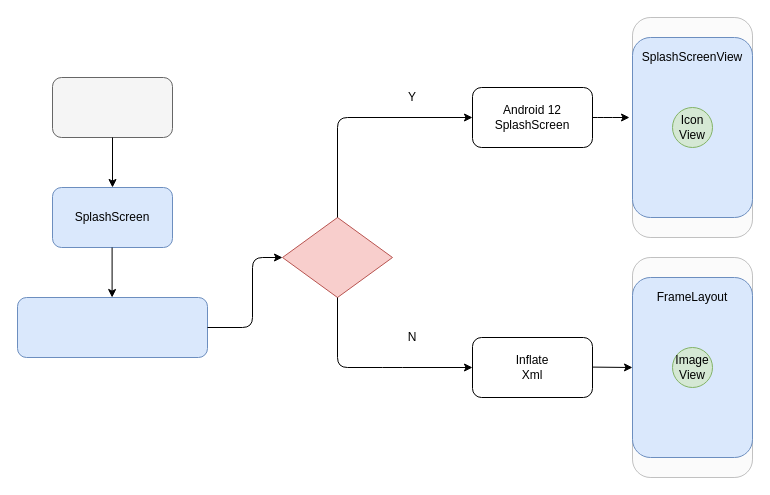
The diagram is 770 pixels wide and 495 high, and some of its shapes have lost their labels. Here are the shapes that lost their labels. From the top down, the centre of each, then its label:
At point 112,107: "Activity".
At point 337,257: "Android 12?".
At point 112,327: "SplashScreenViewProvider".
